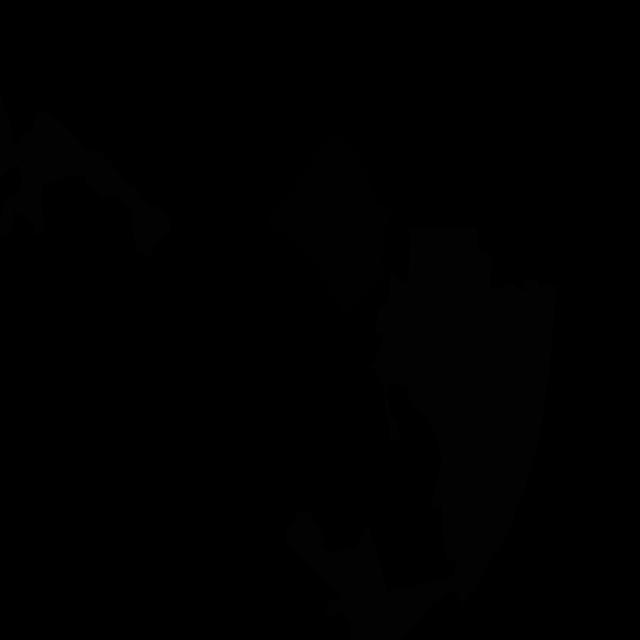cardboard: (286, 268, 557, 640), (0, 110, 171, 257), (408, 227, 492, 301), (0, 87, 17, 182)
rigid_plastic: (266, 132, 392, 316)
